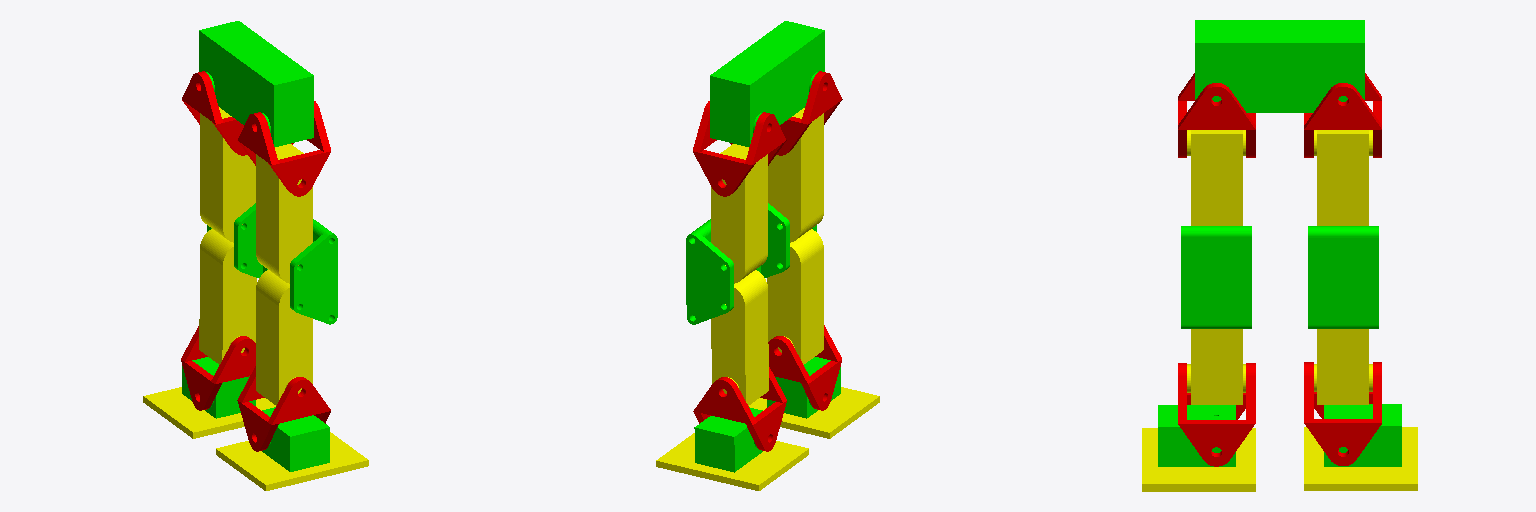
robot.urdf — Walker:
<?xml version="1.0" ?>
<robot name="Walker">

  <!-- Definicje materiałów -->
  <material name="red">
    <color rgba="1.0 0.0 0.0 1.0"/>
  </material>

  <material name="green">
    <color rgba="0.0 1.0 0.0 1.0"/>
  </material>

  <material name="blue">
    <color rgba="0.0 0.0 1.0 1.0"/>
  </material>
 
  <material name="yellow">
    <color rgba="1.0 1.0 0.0 1.0"/>
  </material>
  
  <material name="black">
    <color rgba="0.0 0.0 0.0 1.0"/>
  </material>

<link name="base_link">
  <inertial>
    <origin xyz="0 0 -0.024654703854040158" rpy="0 0 0"/>
    <mass value="0.4"/>
    <inertia ixx="0.001638" iyy="0.000407" izz="0.00149" ixy="0.0" iyz="0.0" ixz="-0.0"/>
  </inertial>
  <visual>
    <origin xyz="0 0 0" rpy="0 0 0"/>
    <geometry>
      <mesh filename="walker2/Walker_description/meshes/base_link.stl" scale="0.001 0.001 0.001"/>
    </geometry>
    <material name="green"/>
  </visual>
  <collision>
    <origin xyz="0 0 0" rpy="0 0 0"/>
    <geometry>
      <mesh filename="walker2/Walker_description/meshes/base_link.stl" scale="0.001 0.001 0.001"/>
    </geometry>
  </collision>
</link>

<link name="left_thigh_1">
  <inertial>
    <origin xyz="2.108203541373025e-15 -0.018649999880792342 -0.032860697132762656" rpy="0 0 0"/>
    <mass value="0.6635304485624715"/>
    <inertia ixx="0.000524" iyy="0.000504" izz="0.000104" ixy="0.0" iyz="-0.0" ixz="0.0"/>
  </inertial>
  <visual>
    <origin xyz="0.0 -0.05865 0.077" rpy="0 0 0"/>
    <geometry>
      <mesh filename="walker2/Walker_description/meshes/left_thigh_1.stl" scale="0.001 0.001 0.001"/>
    </geometry>
    <material name="yellow"/>
  </visual>
  <collision>
    <origin xyz="0.0 -0.05865 0.077" rpy="0 0 0"/>
    <geometry>
      <mesh filename="walker2/Walker_description/meshes/left_thigh_1.stl" scale="0.001 0.001 0.001"/>
    </geometry>
  </collision>
</link>

<link name="left_knee_1">
  <inertial>
    <origin xyz="0.02018305947618088 -0.016499999880792593 -0.015609456102738312" rpy="0 0 0"/>
    <mass value="0.3524642857407411"/>
    <inertia ixx="0.000199" iyy="0.000144" izz="0.000116" ixy="0.0" iyz="0.0" ixz="-0.0"/>
  </inertial>
  <visual>
    <origin xyz="-0.0 -0.0565 0.144" rpy="0 0 0"/>
    <geometry>
      <mesh filename="walker2/Walker_description/meshes/left_knee_1.stl" scale="0.001 0.001 0.001"/>
    </geometry>
    <material name="green"/>
  </visual>
  <collision>
    <origin xyz="-0.0 -0.0565 0.144" rpy="0 0 0"/>
    <geometry>
      <mesh filename="walker2/Walker_description/meshes/left_knee_1.stl" scale="0.001 0.001 0.001"/>
    </geometry>
  </collision>
</link>

<link name="left_shin_1">
  <inertial>
    <origin xyz="-0.000184520523562128 -0.016499999880792746 -0.03413835088332473" rpy="0 0 0"/>
    <mass value="0.663530448562467"/>
    <inertia ixx="0.000524" iyy="0.000504" izz="0.000104" ixy="0.0" iyz="0.0" ixz="-2e-06"/>
  </inertial>
  <visual>
    <origin xyz="0.000168 -0.0565 0.175" rpy="0 0 0"/>
    <geometry>
      <mesh filename="walker2/Walker_description/meshes/left_shin_1.stl" scale="0.001 0.001 0.001"/>
    </geometry>
    <material name="yellow"/>
  </visual>
  <collision>
    <origin xyz="0.000168 -0.0565 0.175" rpy="0 0 0"/>
    <geometry>
      <mesh filename="walker2/Walker_description/meshes/left_shin_1.stl" scale="0.001 0.001 0.001"/>
    </geometry>
  </collision>
</link>

<link name="left_ankle_1">
  <inertial>
    <origin xyz="-0.00010859174309388114 -0.018649999880793383 -0.019999273931096878" rpy="0 0 0"/>
    <mass value="0.16126943544832473"/>
    <inertia ixx="7.7e-05" iyy="7.7e-05" izz="9.4e-05" ixy="0.0" iyz="0.0" ixz="0.0"/>
  </inertial>
  <visual>
    <origin xyz="0.00053 -0.05865 0.241999" rpy="0 0 0"/>
    <geometry>
      <mesh filename="walker2/Walker_description/meshes/left_ankle_1.stl" scale="0.001 0.001 0.001"/>
    </geometry>
    <material name="red"/>
  </visual>
  <collision>
    <origin xyz="0.00053 -0.05865 0.241999" rpy="0 0 0"/>
    <geometry>
      <mesh filename="walker2/Walker_description/meshes/left_ankle_1.stl" scale="0.001 0.001 0.001"/>
    </geometry>
  </collision>
</link>

<link name="left_foot_1">
  <inertial>
    <origin xyz="-0.018649816490432312 0.012206893380140561 0.000103077142954211" rpy="0 0 0"/>
    <mass value="0.3639507075296119"/>
    <inertia ixx="9.6e-05" iyy="5.8e-05" izz="0.000107" ixy="0.0" iyz="0.0" ixz="0.0"/>
  </inertial>
  <visual>
    <origin xyz="-0.017903 -0.04 0.282099" rpy="0 0 0"/>
    <geometry>
      <mesh filename="walker2/Walker_description/meshes/left_foot_1.stl" scale="0.001 0.001 0.001"/>
    </geometry>
    <material name="green"/>
  </visual>
  <collision>
    <origin xyz="-0.017903 -0.04 0.282099" rpy="0 0 0"/>
    <geometry>
      <mesh filename="walker2/Walker_description/meshes/left_foot_1.stl" scale="0.001 0.001 0.001"/>
    </geometry>
  </collision>
</link>

<link name="left_end_1">
  <inertial>
    <origin xyz="-1.3122473707552636e-05 0.011187985482633549 -0.002499739413802604" rpy="0 0 0"/>
    <mass value="0.23876488296307571"/>
    <inertia ixx="0.000103" iyy="0.000144" izz="0.000246" ixy="-0.0" iyz="0.0" ixz="1e-06"/>
  </inertial>
  <visual>
    <origin xyz="0.000823 -0.04 0.295998" rpy="0 0 0"/>
    <geometry>
      <mesh filename="walker2/Walker_description/meshes/left_end_1.stl" scale="0.001 0.001 0.001"/>
    </geometry>
    <material name="yellow"/>
  </visual>
  <collision>
    <origin xyz="0.000823 -0.04 0.295998" rpy="0 0 0"/>
    <geometry>
      <mesh filename="walker2/Walker_description/meshes/left_end_1.stl" scale="0.001 0.001 0.001"/>
    </geometry>
  </collision>
</link>

<link name="right_thigh_1">
  <inertial>
    <origin xyz="1.7321209673196574e-15 0.018650000119208067 -0.03286069713276038" rpy="0 0 0"/>
    <mass value="0.6635304485624772"/>
    <inertia ixx="0.000524" iyy="0.000504" izz="0.000104" ixy="0.0" iyz="-0.0" ixz="0.0"/>
  </inertial>
  <visual>
    <origin xyz="0.0 0.05865 0.077" rpy="0 0 0"/>
    <geometry>
      <mesh filename="walker2/Walker_description/meshes/right_thigh_1.stl" scale="0.001 0.001 0.001"/>
    </geometry>
    <material name="yellow"/>
  </visual>
  <collision>
    <origin xyz="0.0 0.05865 0.077" rpy="0 0 0"/>
    <geometry>
      <mesh filename="walker2/Walker_description/meshes/right_thigh_1.stl" scale="0.001 0.001 0.001"/>
    </geometry>
  </collision>
</link>

<link name="right_knee_1">
  <inertial>
    <origin xyz="0.02026723908891305 0.016500000119208 -0.015500000953674292" rpy="0 0 0"/>
    <mass value="0.3524642857407408"/>
    <inertia ixx="0.000199" iyy="0.000144" izz="0.000116" ixy="-0.0" iyz="-0.0" ixz="0.0"/>
  </inertial>
  <visual>
    <origin xyz="0.0 0.0565 0.144" rpy="0 0 0"/>
    <geometry>
      <mesh filename="walker2/Walker_description/meshes/right_knee_1.stl" scale="0.001 0.001 0.001"/>
    </geometry>
    <material name="green"/>
  </visual>
  <collision>
    <origin xyz="0.0 0.0565 0.144" rpy="0 0 0"/>
    <geometry>
      <mesh filename="walker2/Walker_description/meshes/right_knee_1.stl" scale="0.001 0.001 0.001"/>
    </geometry>
  </collision>
</link>

<link name="right_shin_1">
  <inertial>
    <origin xyz="-2.218061020608529e-15 0.01650000011920779 -0.034139304774588125" rpy="0 0 0"/>
    <mass value="0.6635304485624639"/>
    <inertia ixx="0.000524" iyy="0.000504" izz="0.000104" ixy="-0.0" iyz="0.0" ixz="0.0"/>
  </inertial>
  <visual>
    <origin xyz="0.0 0.0565 0.175" rpy="0 0 0"/>
    <geometry>
      <mesh filename="walker2/Walker_description/meshes/right_shin_1.stl" scale="0.001 0.001 0.001"/>
    </geometry>
    <material name="yellow"/>
  </visual>
  <collision>
    <origin xyz="0.0 0.0565 0.175" rpy="0 0 0"/>
    <geometry>
      <mesh filename="walker2/Walker_description/meshes/right_shin_1.stl" scale="0.001 0.001 0.001"/>
    </geometry>
  </collision>
</link>

<link name="right_ankle_1">
  <inertial>
    <origin xyz="-3.9355901150777025e-15 0.018650000119207165 -0.020000001907324094" rpy="0 0 0"/>
    <mass value="0.1612694354483243"/>
    <inertia ixx="7.7e-05" iyy="7.7e-05" izz="9.4e-05" ixy="0.0" iyz="-0.0" ixz="0.0"/>
  </inertial>
  <visual>
    <origin xyz="0.0 0.05865 0.242" rpy="0 0 0"/>
    <geometry>
      <mesh filename="walker2/Walker_description/meshes/right_ankle_1.stl" scale="0.001 0.001 0.001"/>
    </geometry>
    <material name="red"/>
  </visual>
  <collision>
    <origin xyz="0.0 0.05865 0.242" rpy="0 0 0"/>
    <geometry>
      <mesh filename="walker2/Walker_description/meshes/right_ankle_1.stl" scale="0.001 0.001 0.001"/>
    </geometry>
  </collision>
</link>

<link name="right_foot_1">
  <inertial>
    <origin xyz="-0.0186500000000092 -0.012208754471098808 -1.907351165897353e-09" rpy="0 0 0"/>
    <mass value="0.36389521914943834"/>
    <inertia ixx="9.6e-05" iyy="5.8e-05" izz="0.000107" ixy="-0.0" iyz="-0.0" ixz="-0.0"/>
  </inertial>
  <visual>
    <origin xyz="-0.01865 0.04 0.282" rpy="0 0 0"/>
    <geometry>
      <mesh filename="walker2/Walker_description/meshes/right_foot_1.stl" scale="0.001 0.001 0.001"/>
    </geometry>
    <material name="green"/>
  </visual>
  <collision>
    <origin xyz="-0.01865 0.04 0.282" rpy="0 0 0"/>
    <geometry>
      <mesh filename="walker2/Walker_description/meshes/right_foot_1.stl" scale="0.001 0.001 0.001"/>
    </geometry>
  </collision>
</link>

<link name="right_end_1">
  <inertial>
    <origin xyz="-2.3868577335755496e-10 -0.011187985244216186 -0.0025000019222783387" rpy="0 0 0"/>
    <mass value="0.238764882963104"/>
    <inertia ixx="0.000103" iyy="0.000144" izz="0.000246" ixy="0.0" iyz="0.0" ixz="-0.0"/>
  </inertial>
  <visual>
    <origin xyz="-0.0 0.04 0.296" rpy="0 0 0"/>
    <geometry>
      <mesh filename="walker2/Walker_description/meshes/right_end_1.stl" scale="0.001 0.001 0.001"/>
    </geometry>
    <material name="yellow"/>
  </visual>
  <collision>
    <origin xyz="-0.0 0.04 0.296" rpy="0 0 0"/>
    <geometry>
      <mesh filename="walker2/Walker_description/meshes/right_end_1.stl" scale="0.001 0.001 0.001"/>
    </geometry>
  </collision>
</link>

<link name="left_hip_1">
  <inertial>
    <origin xyz="-0.018649999999999233 1.1920847642343801e-10 -0.020000000000025386" rpy="0 0 0"/>
    <mass value="0.1612694354483246"/>
    <inertia ixx="7.7e-05" iyy="7.7e-05" izz="9.4e-05" ixy="0.0" iyz="0.0" ixz="0.0"/>
  </inertial>
  <visual>
    <origin xyz="-0.01865 -0.04 0.037" rpy="0 0 0"/>
    <geometry>
      <mesh filename="walker2/Walker_description/meshes/left_hip_1.stl" scale="0.001 0.001 0.001"/>
    </geometry>
    <material name="red"/>
  </visual>
  <collision>
    <origin xyz="-0.01865 -0.04 0.037" rpy="0 0 0"/>
    <geometry>
      <mesh filename="walker2/Walker_description/meshes/left_hip_1.stl" scale="0.001 0.001 0.001"/>
    </geometry>
  </collision>
</link>

<link name="right_hip_1">
  <inertial>
    <origin xyz="-0.01864999999999952 1.192087956125576e-10 -0.020000000000025095" rpy="0 0 0"/>
    <mass value="0.1612694354483248"/>
    <inertia ixx="7.7e-05" iyy="7.7e-05" izz="9.4e-05" ixy="0.0" iyz="0.0" ixz="0.0"/>
  </inertial>
  <visual>
    <origin xyz="-0.01865 0.04 0.037" rpy="0 0 0"/>
    <geometry>
      <mesh filename="walker2/Walker_description/meshes/right_hip_1.stl" scale="0.001 0.001 0.001"/>
    </geometry>
    <material name="red"/>
  </visual>
  <collision>
    <origin xyz="-0.01865 0.04 0.037" rpy="0 0 0"/>
    <geometry>
      <mesh filename="walker2/Walker_description/meshes/right_hip_1.stl" scale="0.001 0.001 0.001"/>
    </geometry>
  </collision>
</link>

<joint name="Revolute 32" type="revolute">
  <origin xyz="-0.01865 0.01865 -0.04" rpy="0 0 0"/>
  <parent link="left_hip_1"/>
  <child link="left_thigh_1"/>
  <axis xyz="0.0 1.0 -0.0"/>
  <limit lower="-1.57" upper="1.57" effort="100" velocity="1.0"/>
</joint>

<joint name="Revolute 33" type="revolute">
  <origin xyz="0.0 -0.00215 -0.067" rpy="0 0 0"/>
  <parent link="left_thigh_1"/>
  <child link="left_knee_1"/>
  <axis xyz="-0.0 -1.0 0.0"/>
  <limit lower="-3.14" upper="3.14" effort="100" velocity="1.0"/>
</joint>

<joint name="Revolute 34" type="revolute">
  <origin xyz="-0.000168 0.0 -0.031" rpy="0 0 0"/>
  <parent link="left_knee_1"/>
  <child link="left_shin_1"/>
  <axis xyz="0.0 1.0 -0.0"/>
  <limit lower="0" upper="1.57" effort="100" velocity="1.0"/>
</joint>

<joint name="Revolute 35" type="revolute">
  <origin xyz="-0.000362 0.00215 -0.066999" rpy="0 0 0"/>
  <parent link="left_shin_1"/>
  <child link="left_ankle_1"/>
  <axis xyz="-0.0 1.0 0.0"/>
  <limit lower="-1.57" upper="1.57" effort="100" velocity="1.0"/>
</joint>

<joint name="Revolute 36" type="revolute">
  <origin xyz="0.018433 -0.01865 -0.0401" rpy="0 0 0"/>
  <parent link="left_ankle_1"/>
  <child link="left_foot_1"/>
  <axis xyz="0.999985 -0.0 -0.005412"/>
  <limit lower="-1.57" upper="1.57" effort="100" velocity="1.0"/>
</joint>

<joint name="Rigid 37" type="fixed">
  <origin xyz="-0.018726 0.0 -0.013899" rpy="0 0 0"/>
  <parent link="left_foot_1"/>
  <child link="left_end_1"/>
</joint>

<joint name="Revolute 39" type="revolute">
  <origin xyz="-0.01865 -0.01865 -0.04" rpy="0 0 0"/>
  <parent link="right_hip_1"/>
  <child link="right_thigh_1"/>
  <axis xyz="0.0 1.0 -0.0"/>
  <limit lower="-1.57" upper="1.57" effort="100" velocity="1.0"/>
</joint>

<joint name="Revolute 40" type="revolute">
  <origin xyz="0.0 0.00215 -0.067" rpy="0 0 0"/>
  <parent link="right_thigh_1"/>
  <child link="right_knee_1"/>
  <axis xyz="0.0 1.0 -0.0"/>
  <limit lower="-3.14" upper="3.14" effort="100" velocity="1.0"/>
</joint>

<joint name="Revolute 41" type="revolute">
  <origin xyz="0.0 0.0 -0.031" rpy="0 0 0"/>
  <parent link="right_knee_1"/>
  <child link="right_shin_1"/>
  <axis xyz="-0.0 -1.0 0.0"/>
  <limit lower="-1.57" upper="0" effort="100" velocity="1.0"/>
</joint>

<joint name="Revolute 42" type="revolute">
  <origin xyz="0.0 -0.00215 -0.067" rpy="0 0 0"/>
  <parent link="right_shin_1"/>
  <child link="right_ankle_1"/>
  <axis xyz="0.0 -1.0 0.0"/>
  <limit lower="-1.57" upper="1.57" effort="100" velocity="1.0"/>
</joint>

<joint name="Revolute 43" type="revolute">
  <origin xyz="0.01865 0.01865 -0.04" rpy="0 0 0"/>
  <parent link="right_ankle_1"/>
  <child link="right_foot_1"/>
  <axis xyz="1.0 -0.0 0.0"/>
  <limit lower="-1.57" upper="1.57" effort="100" velocity="1.0"/>
</joint>

<joint name="Rigid 44" type="fixed">
  <origin xyz="-0.01865 0.0 -0.014" rpy="0 0 0"/>
  <parent link="right_foot_1"/>
  <child link="right_end_1"/>
</joint>

<joint name="Revolute 46" type="revolute">
  <origin xyz="0.01865 0.04 -0.037" rpy="0 0 0"/>
  <parent link="base_link"/>
  <child link="left_hip_1"/>
  <axis xyz="1.0 -0.0 0.0"/>
  <limit lower="-1.57" upper="1.57" effort="100" velocity="1.0"/>
</joint>

<joint name="Revolute 47" type="revolute">
  <origin xyz="0.01865 -0.04 -0.037" rpy="0 0 0"/>
  <parent link="base_link"/>
  <child link="right_hip_1"/>
  <axis xyz="1.0 -0.0 0.0"/>
  <limit lower="-1.57" upper="1.57" effort="100" velocity="1.0"/>
</joint>

</robot>

--- Facts derived from the render (not from the file) ---
The picture shows the robot from 3 angles, left to right: view 1: azimuth 30°, elevation 25°; view 2: azimuth 150°, elevation 25°; view 3: azimuth 270°, elevation 25°; orthographic projection.
Model Walker with 15 links and 14 joints (12 revolute, 2 fixed), rooted at base_link, posed every joint at zero.
Visible links, largest first — view 1: base_link, right_shin_1, left_shin_1, right_thigh_1, left_thigh_1, right_knee_1, right_end_1, right_hip_1, right_ankle_1, left_ankle_1, right_foot_1, left_end_1 (+3 smaller); view 2: base_link, left_shin_1, right_shin_1, left_thigh_1, right_thigh_1, left_knee_1, left_hip_1, left_end_1, left_ankle_1, right_ankle_1, left_foot_1, right_end_1 (+3 smaller); view 3: base_link, left_knee_1, right_knee_1, left_thigh_1, right_thigh_1, right_shin_1, left_shin_1, right_end_1, left_end_1, left_ankle_1, right_ankle_1, left_hip_1 (+3 smaller).
Boxes of the visible links, x1,y1,x2,y2 form: base_link: [199, 21, 313, 146]; right_shin_1: [256, 270, 312, 405]; left_shin_1: [199, 229, 256, 364]; right_thigh_1: [256, 144, 312, 283]; left_thigh_1: [200, 107, 255, 242]; right_knee_1: [263, 219, 337, 324]; right_end_1: [216, 432, 368, 490]; right_hip_1: [237, 101, 330, 196]; right_ankle_1: [237, 366, 330, 451]; left_ankle_1: [181, 326, 255, 410]; right_foot_1: [262, 407, 329, 471]; left_end_1: [143, 387, 275, 438]; base_link: [710, 21, 824, 146]; left_shin_1: [711, 270, 768, 405]; right_shin_1: [767, 229, 823, 364]; left_thigh_1: [711, 144, 767, 283]; right_thigh_1: [768, 108, 823, 242]; left_knee_1: [686, 219, 760, 324]; left_hip_1: [693, 101, 786, 196]; left_end_1: [656, 433, 808, 490]; left_ankle_1: [693, 367, 786, 451]; right_ankle_1: [768, 325, 841, 410]; left_foot_1: [694, 407, 762, 472]; right_end_1: [749, 387, 879, 438]; base_link: [1195, 20, 1364, 112]; left_knee_1: [1308, 226, 1378, 328]; right_knee_1: [1181, 226, 1251, 328]; left_thigh_1: [1314, 130, 1372, 225]; right_thigh_1: [1187, 130, 1245, 225]; right_shin_1: [1187, 329, 1245, 404]; left_shin_1: [1314, 329, 1372, 404]; right_end_1: [1142, 428, 1255, 491]; left_end_1: [1304, 427, 1417, 490]; left_ankle_1: [1304, 362, 1381, 465]; right_ankle_1: [1178, 363, 1255, 466]; left_hip_1: [1304, 73, 1381, 157].
Bounding box of the posed robot: 0.0858 × 0.174 × 0.3012 m (x, y, z).
15 mesh visuals loaded from 15 distinct referenced files (15 binary STL).
